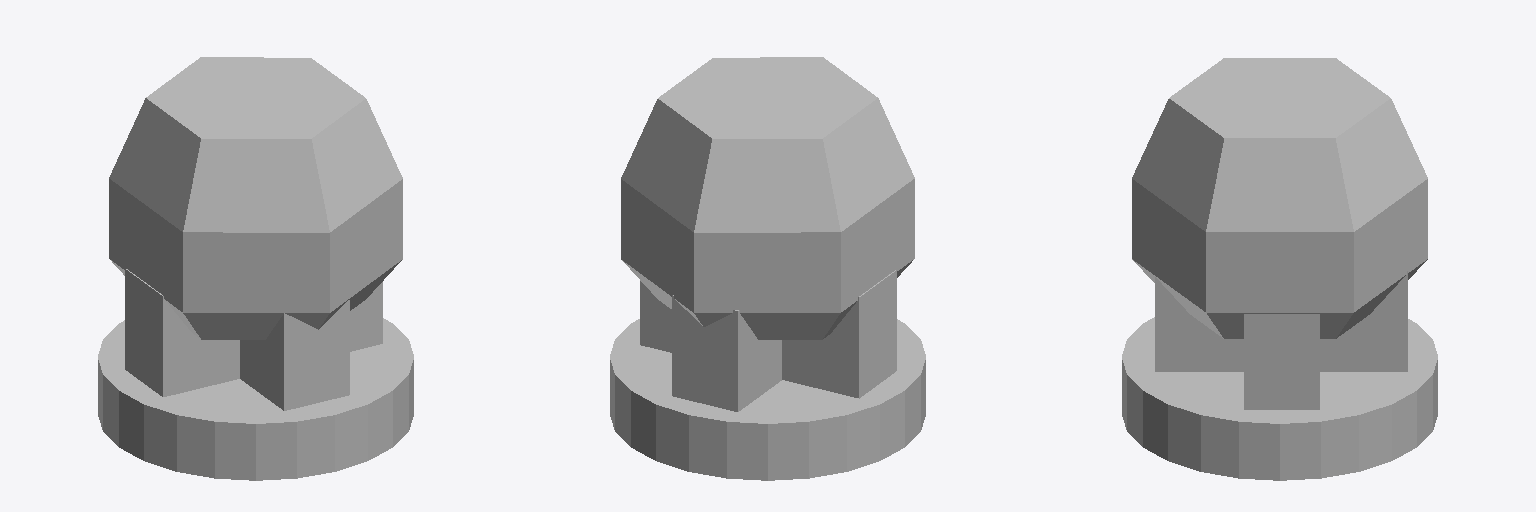
File: gems_topaz_5.obj
The picture shows the model from 3 angles: view 1: azimuth 30°, elevation 25°; view 2: azimuth 150°, elevation 25°; view 3: azimuth 270°, elevation 25°; orthographic projection.
Parts seen in each view (by area): view 1: mergedBlocks; view 2: mergedBlocks; view 3: mergedBlocks.
Boxes of the visible parts, <box> form: mergedBlocks: <box>98,57,413,480</box>; mergedBlocks: <box>610,57,925,480</box>; mergedBlocks: <box>1122,58,1437,480</box>.
Size of the model in its own units: 1 by 1.1 by 1.